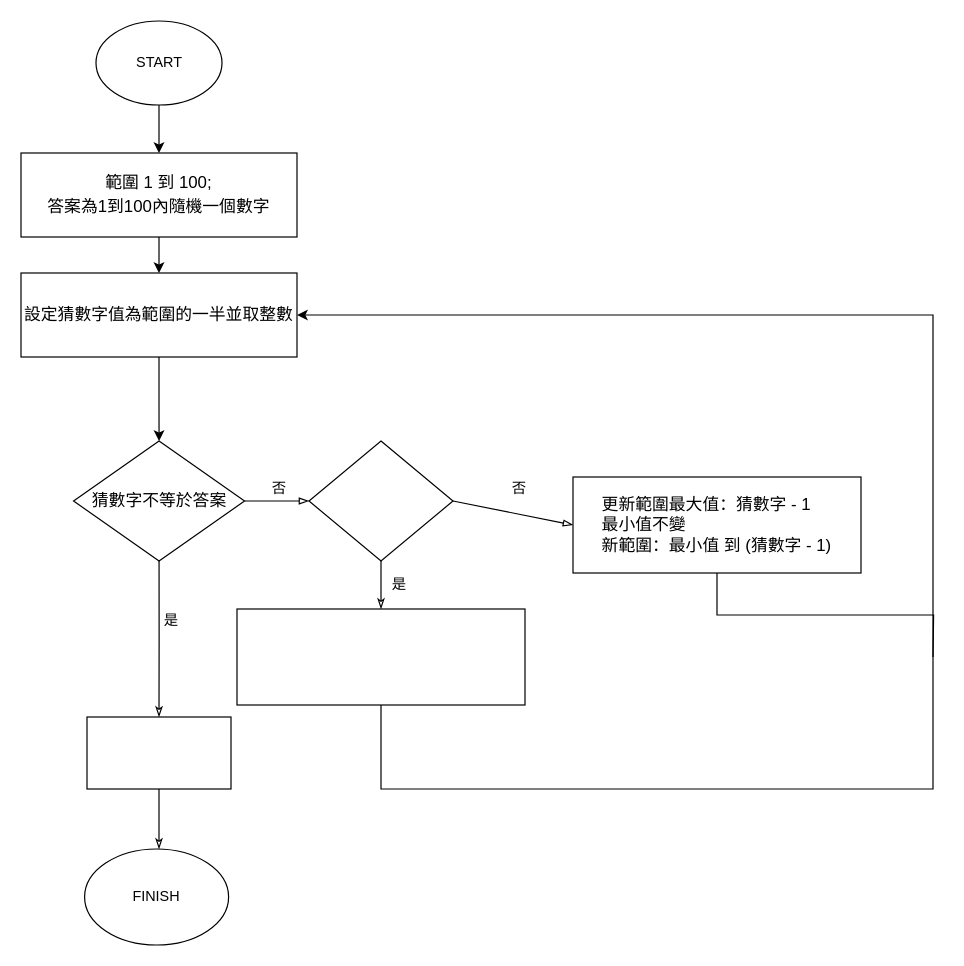
Image size: 964x966. Some labels were removed from this diagram. Here are the shapes that lost their labels. From the top down, the box of each, then its label:
(308, 440, 453, 561): 猜數字 < 答案
(236, 608, 525, 705): 更新範圍最小值：猜數字 + 1 最大值不變 新範圍：(猜數字 + 1) 到 最大值
(86, 716, 231, 789): 恭喜猜中了！
